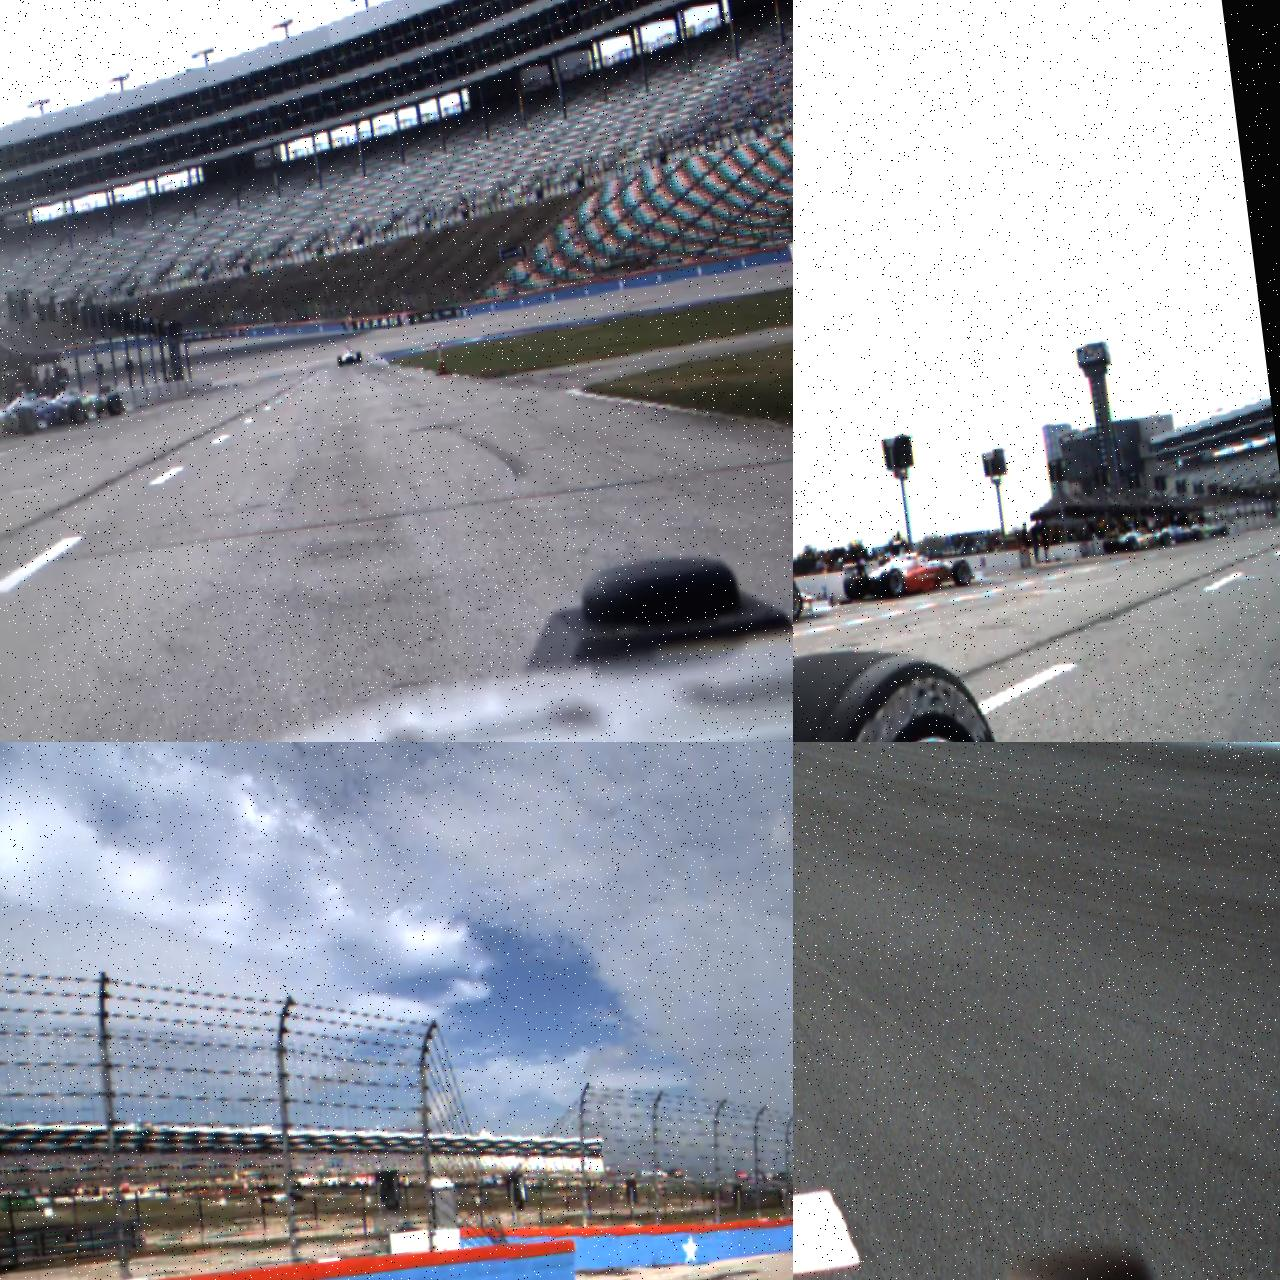AV: (838, 521, 985, 604), (337, 345, 362, 367)
Wheel: (879, 566, 907, 600), (842, 570, 871, 602), (950, 558, 973, 588), (17, 408, 37, 435), (793, 583, 805, 624), (68, 399, 86, 426), (107, 394, 123, 416), (1158, 534, 1172, 548), (1126, 536, 1138, 551), (1220, 525, 1230, 537), (1194, 530, 1203, 542), (356, 352, 362, 362), (338, 356, 342, 366)
